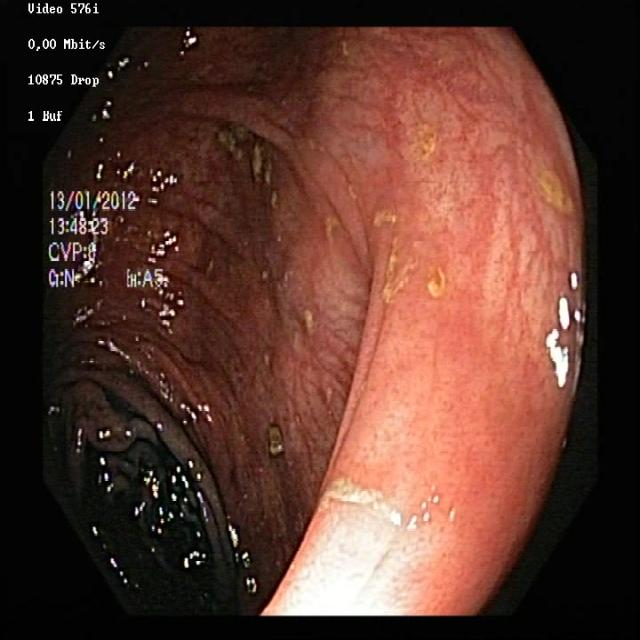ulcerative-colities: (201, 99, 307, 210), (380, 233, 459, 315), (519, 147, 585, 229), (387, 97, 430, 208)
